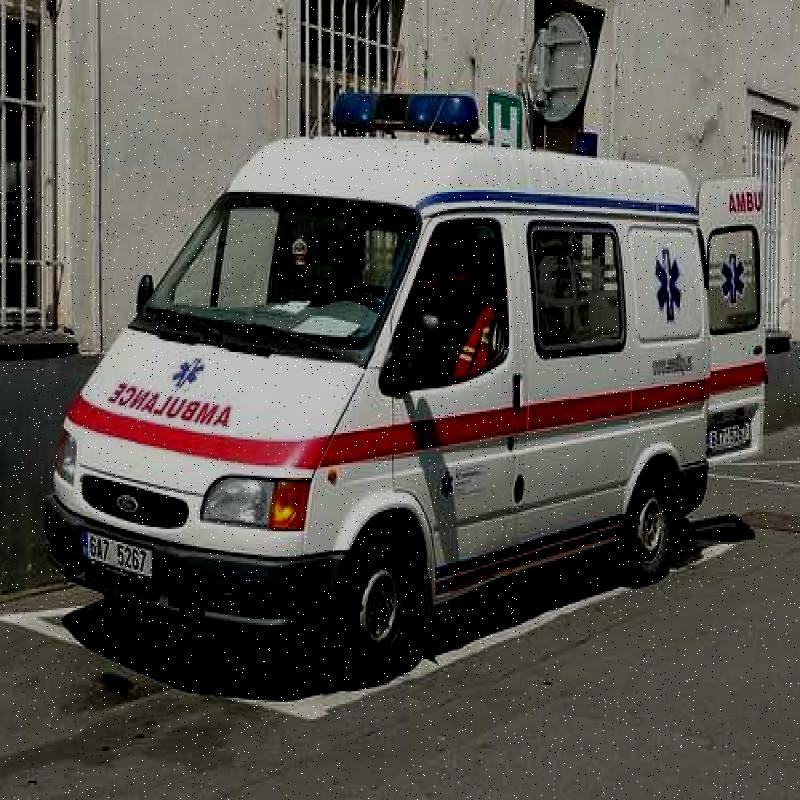AmbulanceSiren: (316, 73, 517, 157)
